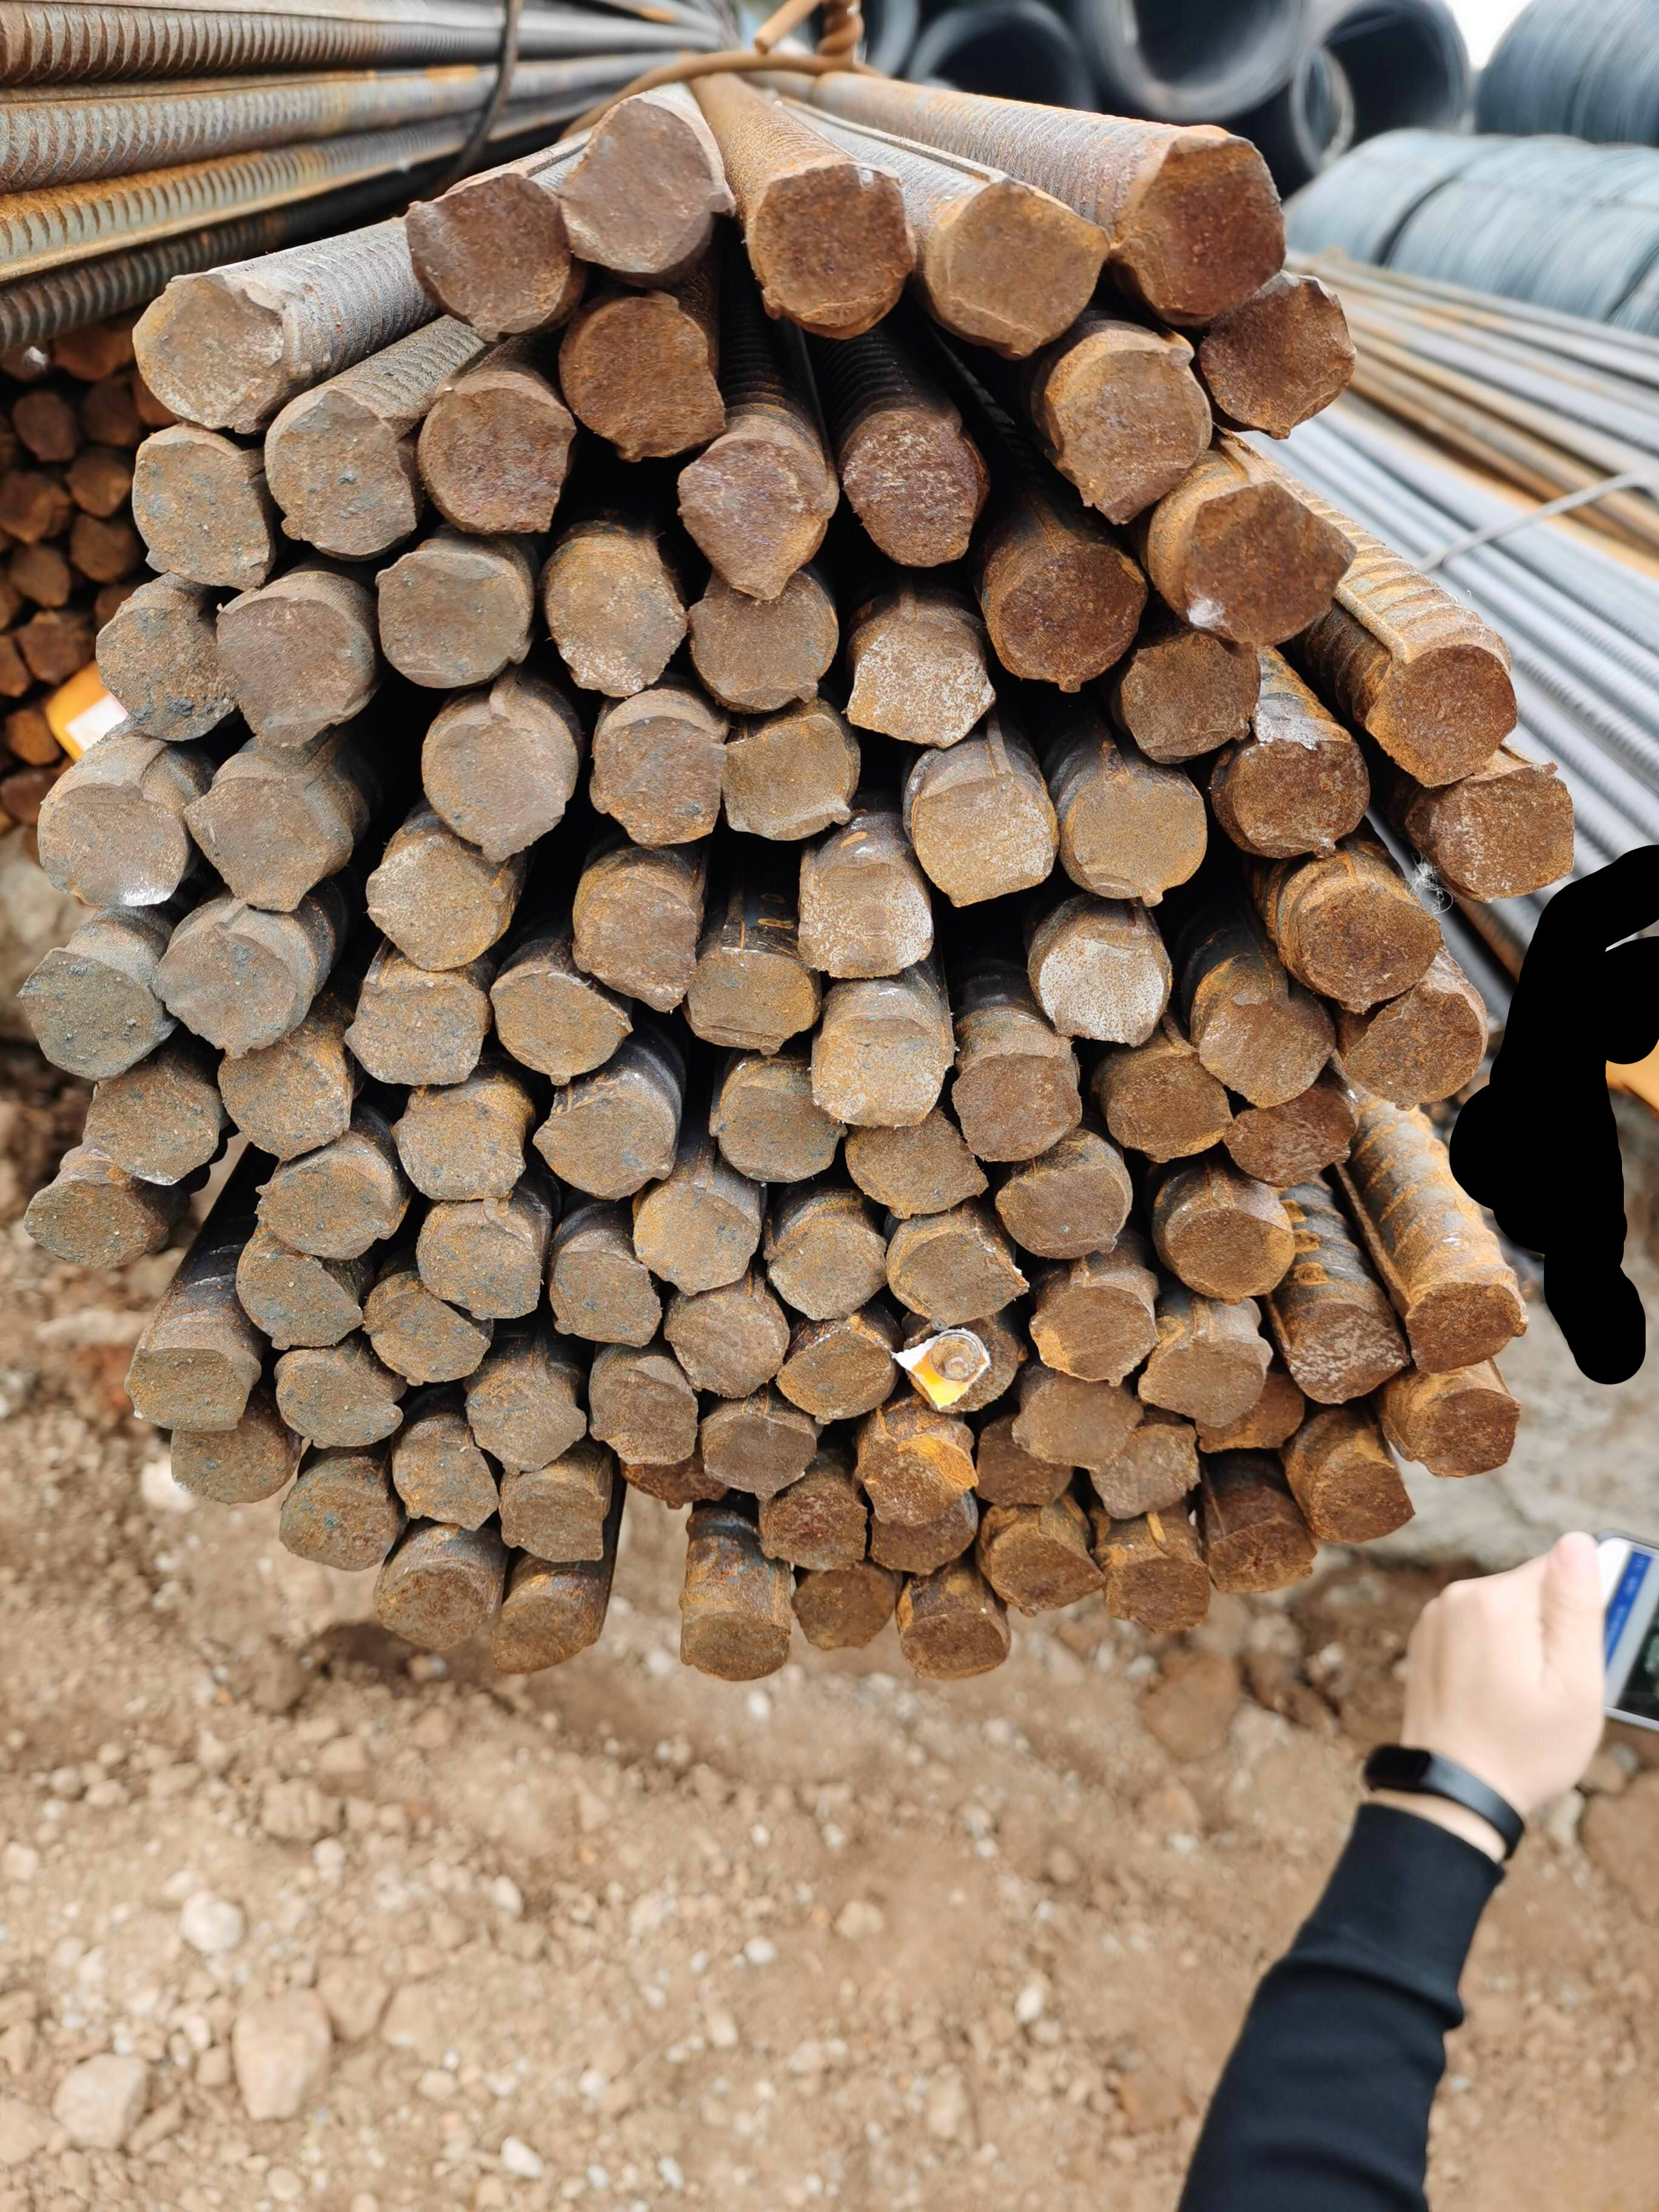rebar: (929, 175, 1114, 365), (1116, 129, 1293, 318), (1045, 332, 1217, 528), (562, 93, 735, 278), (744, 153, 922, 333), (1179, 481, 1355, 652), (404, 173, 577, 349), (126, 264, 292, 436), (260, 379, 418, 561), (558, 293, 726, 460), (420, 692, 583, 867), (676, 436, 839, 602), (369, 537, 541, 697), (413, 377, 577, 543), (1201, 282, 1362, 444), (118, 429, 272, 592), (217, 592, 375, 749), (550, 526, 686, 705), (30, 772, 195, 917), (842, 403, 983, 571), (999, 535, 1149, 692), (184, 770, 344, 917), (11, 943, 172, 1089), (1366, 637, 1521, 788), (683, 569, 844, 715), (356, 833, 518, 971), (1059, 762, 1213, 909), (908, 768, 1062, 911), (89, 600, 238, 748), (844, 608, 997, 751), (153, 919, 307, 1061), (567, 869, 711, 1016), (1030, 909, 1177, 1053), (489, 952, 640, 1089), (1440, 760, 1580, 902), (794, 848, 938, 988), (1118, 630, 1265, 769), (77, 1063, 229, 1193), (1296, 879, 1444, 1016), (1225, 729, 1373, 862), (1338, 978, 1492, 1108), (529, 1079, 682, 1205), (588, 709, 726, 848), (704, 1051, 846, 1186), (719, 713, 863, 846), (1199, 975, 1335, 1115), (945, 1041, 1087, 1172), (808, 1010, 959, 1134), (212, 1037, 356, 1164), (841, 1105, 993, 1222), (411, 1198, 548, 1327), (389, 1082, 529, 1207), (350, 968, 492, 1091), (250, 1150, 401, 1262), (682, 939, 820, 1060), (1105, 1042, 1232, 1173), (657, 1279, 796, 1399), (631, 1178, 761, 1299), (357, 1267, 492, 1386), (23, 1172, 159, 1287), (275, 1453, 404, 1574), (1135, 1321, 1277, 1430), (1028, 1273, 1165, 1389), (993, 1157, 1130, 1266), (541, 1238, 673, 1351), (891, 1226, 1028, 1332), (387, 1410, 503, 1536), (768, 1202, 884, 1330), (1222, 1084, 1359, 1188), (1168, 1196, 1300, 1305), (586, 1352, 704, 1472), (1010, 1368, 1141, 1477), (270, 1349, 404, 1453), (466, 1363, 593, 1473), (235, 1247, 366, 1351), (977, 1519, 1108, 1621), (122, 1340, 259, 1437), (779, 1315, 900, 1427), (1290, 1301, 1409, 1411), (856, 1425, 979, 1531), (1404, 1273, 1532, 1375), (758, 1466, 876, 1574), (1082, 1415, 1199, 1522), (162, 1416, 298, 1509), (496, 1463, 614, 1569), (902, 1315, 1026, 1412), (697, 1404, 817, 1501), (371, 1557, 491, 1654), (669, 1602, 796, 1691), (1205, 1512, 1319, 1609), (1312, 1448, 1418, 1548), (796, 1557, 902, 1657), (969, 1415, 1074, 1510), (1101, 1550, 1210, 1645), (489, 1588, 600, 1677), (903, 1602, 1014, 1687), (1419, 1386, 1520, 1479), (872, 1500, 979, 1581), (15, 604, 91, 686), (7, 390, 82, 464), (1, 469, 70, 548), (47, 323, 133, 380), (76, 379, 145, 449), (61, 453, 133, 518), (64, 516, 136, 580), (10, 546, 75, 609), (5, 703, 59, 765), (1, 771, 52, 828)
